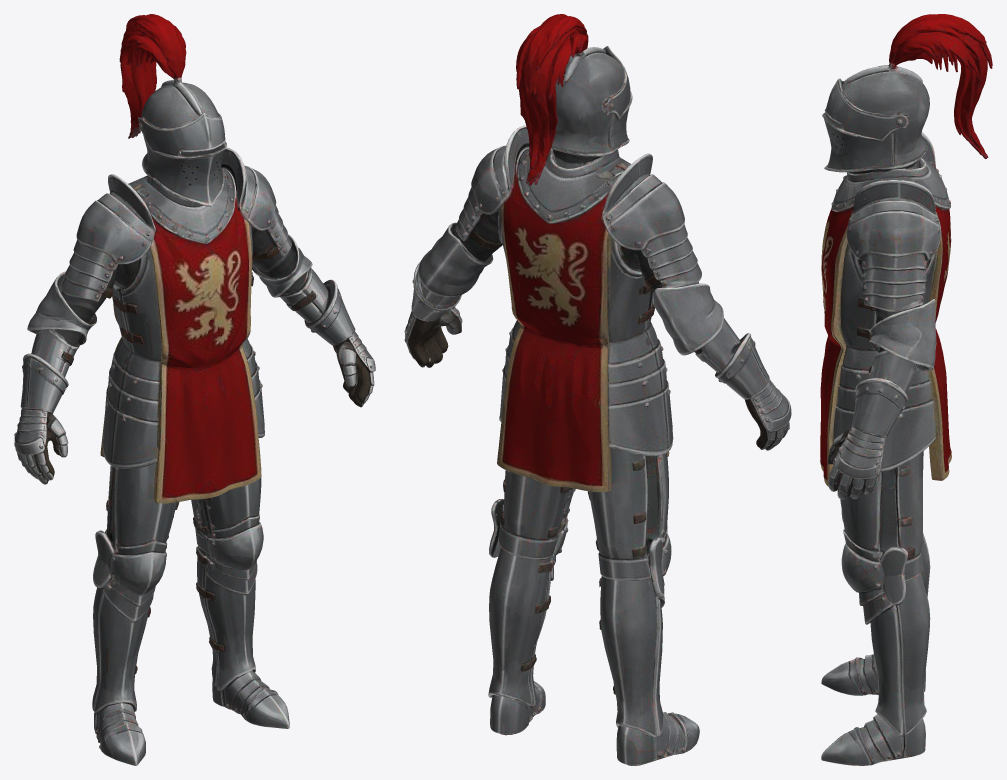
The model's file is plate_knight.glb.
3 views of the same model, side by side, from view 1: azimuth 30°, elevation 25°; view 2: azimuth 150°, elevation 25°; view 3: azimuth 270°, elevation 25° (orthographic). The views are drawn at different scales.
Parts seen in each view (by area): view 1: Mesh_0; view 2: Mesh_0; view 3: Mesh_0.
Part boxes in pixels (x1,y1,x2,y2): Mesh_0: (14,14,375,765); Mesh_0: (404,14,791,765); Mesh_0: (820,14,992,765).
Bounding box in the file's own units: 1.02 × 1.9 × 0.4217.
1 material, 1 textured.
